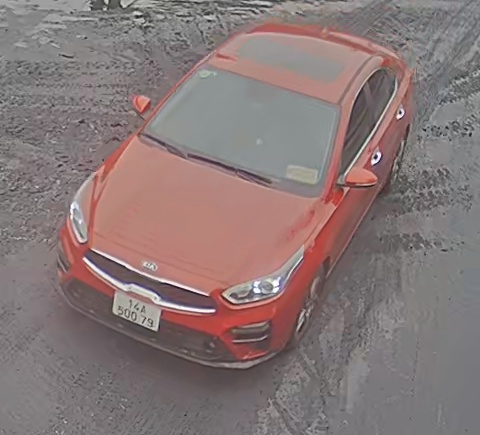vehicle plate: (113, 288, 160, 332)
